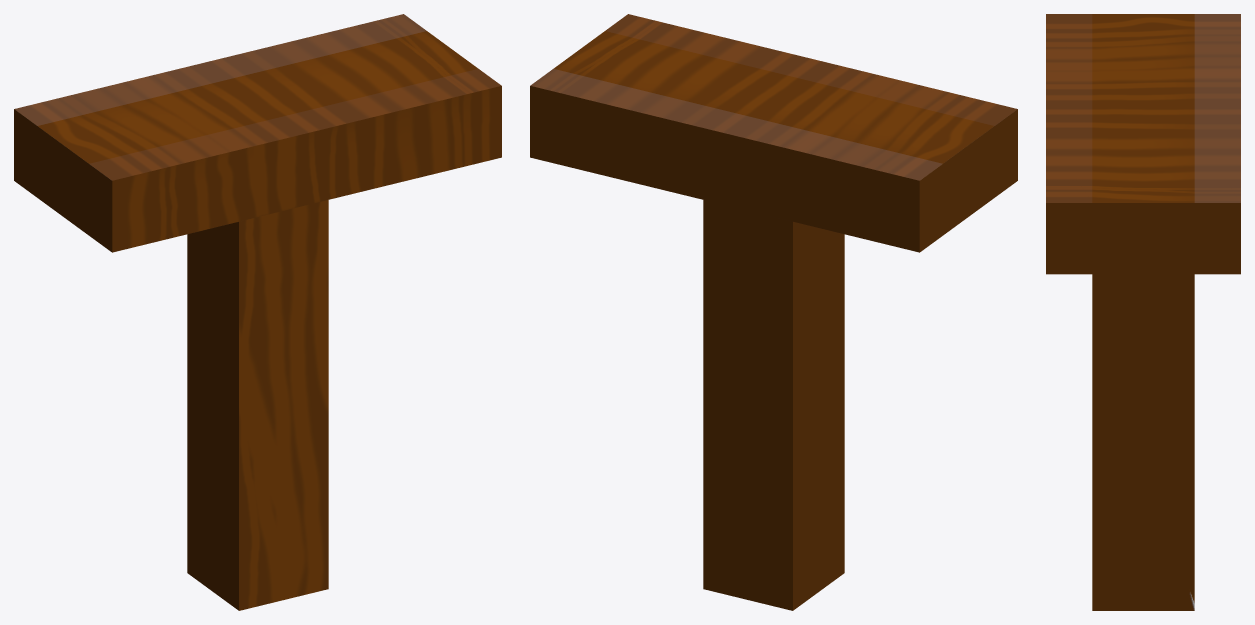
File: 2x3ObjPlatfrom.fbx
3 views of the same model, side by side, from view 1: azimuth 30°, elevation 25°; view 2: azimuth 150°, elevation 25°; view 3: azimuth 270°, elevation 25° (orthographic).
Parts seen in each view (by area): view 1: Cube; view 2: Cube; view 3: Cube.
Boxes of the visible parts, box(x1,y1,x2,y2) form: Cube: box(14, 14, 501, 610); Cube: box(530, 14, 1017, 610); Cube: box(1046, 14, 1240, 610).
Size of the model in its own units: 872 by 1034 by 380.
Materials: 1 (1 with a texture image).
